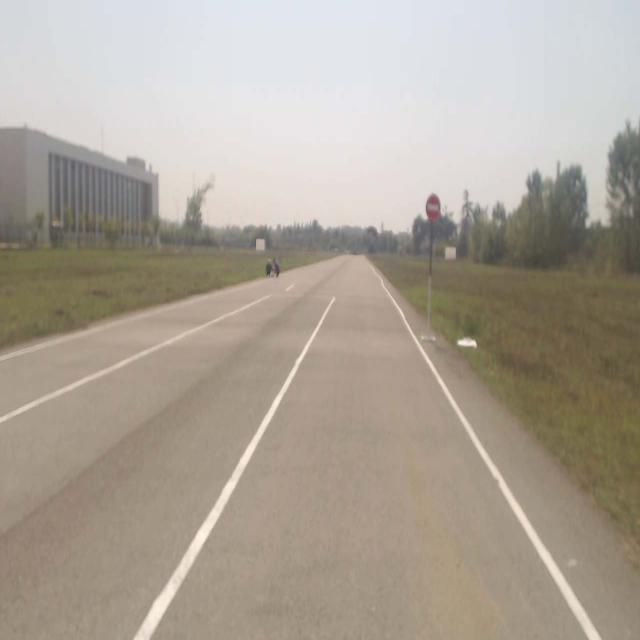girisyok: (426, 193, 440, 220)
